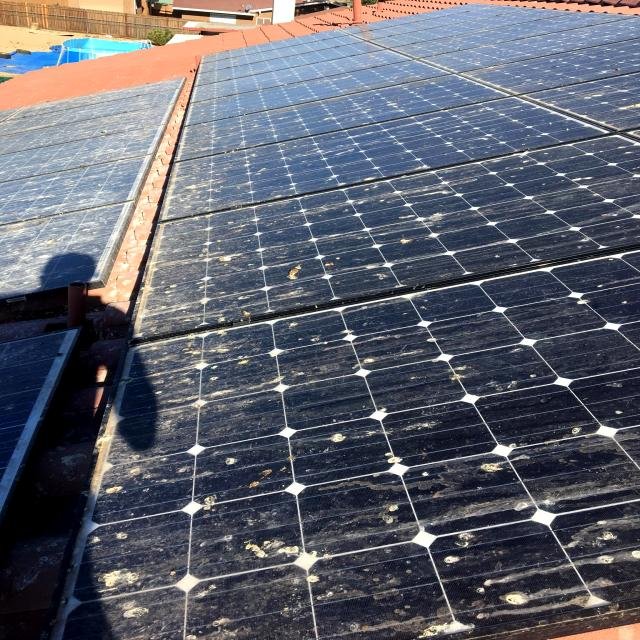bird: (242, 519, 344, 589), (86, 520, 176, 590), (400, 358, 500, 407), (172, 332, 255, 388), (395, 202, 471, 257), (210, 592, 292, 640), (476, 570, 564, 614), (207, 452, 292, 489), (277, 250, 337, 302), (461, 450, 532, 487), (97, 599, 161, 640), (287, 432, 365, 464)
